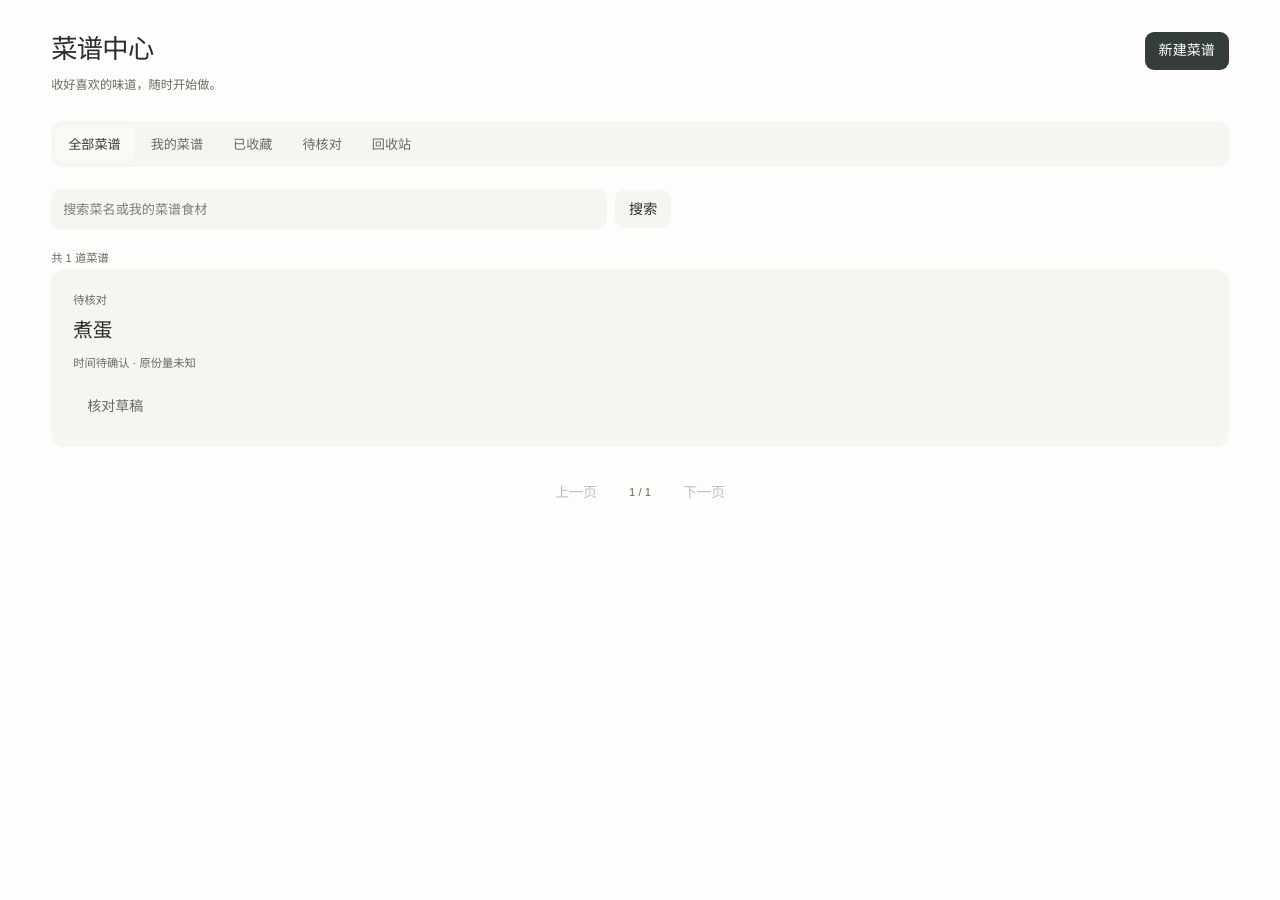
center request lifecycles › updates the inspector title after accepting an edited draft
Click the button "核对草稿".
click(115, 406)  # box 73,387 -> 157,425
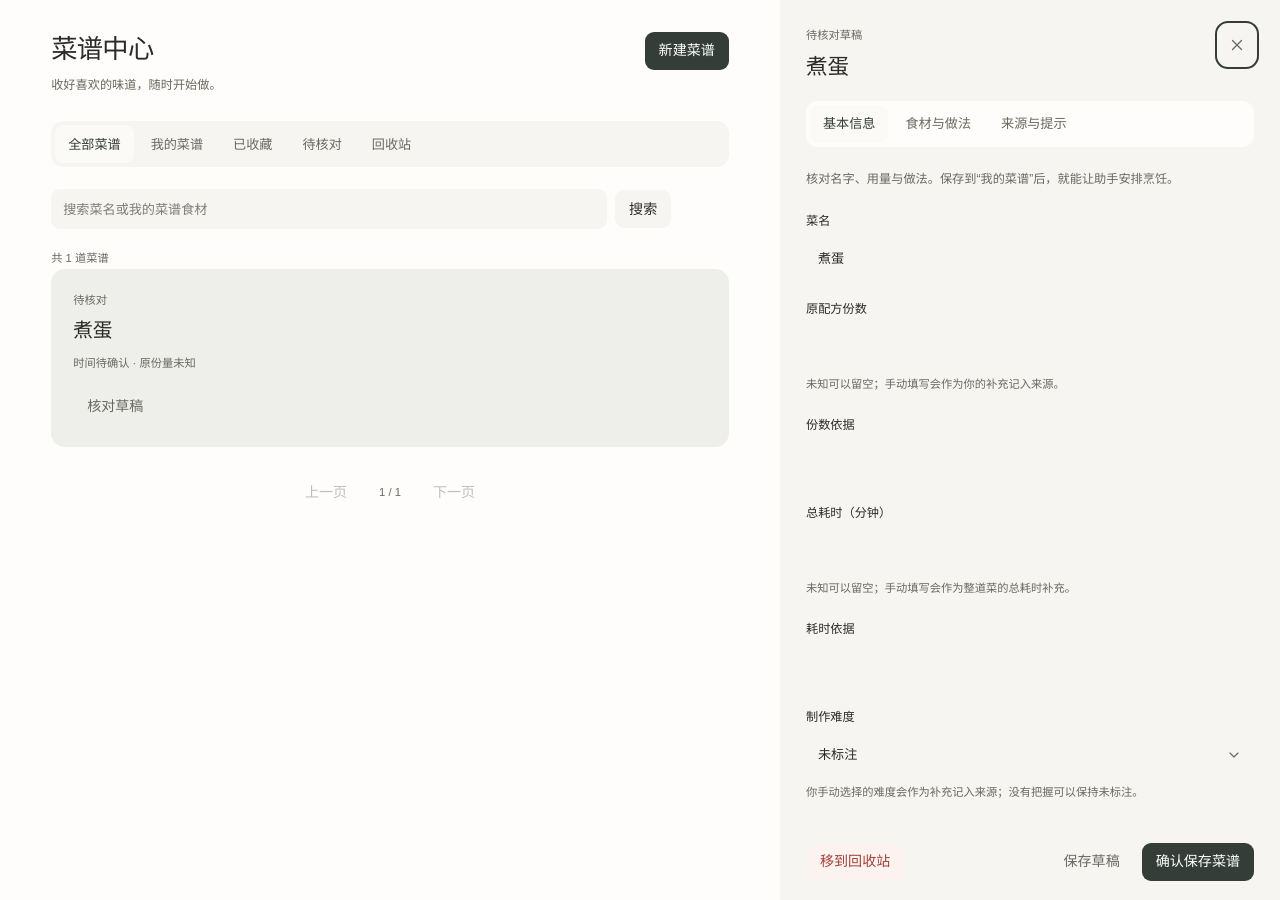
Replace the text in the field labelled "菜名" with "新菜名" at (1030, 259), box 806,239 -> 1254,279
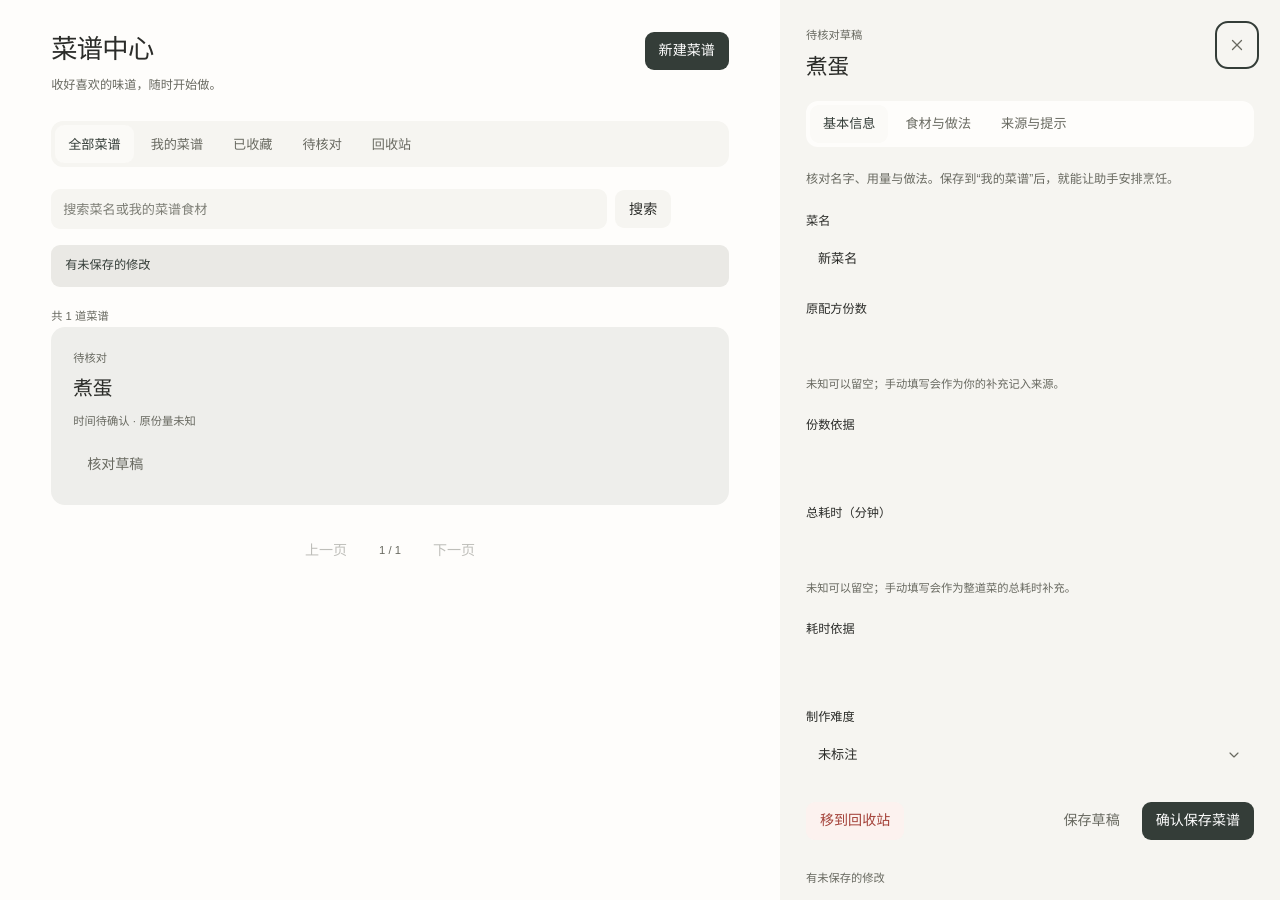
Click the button "保存草稿".
click(1092, 821)  # box 1050,802 -> 1134,840
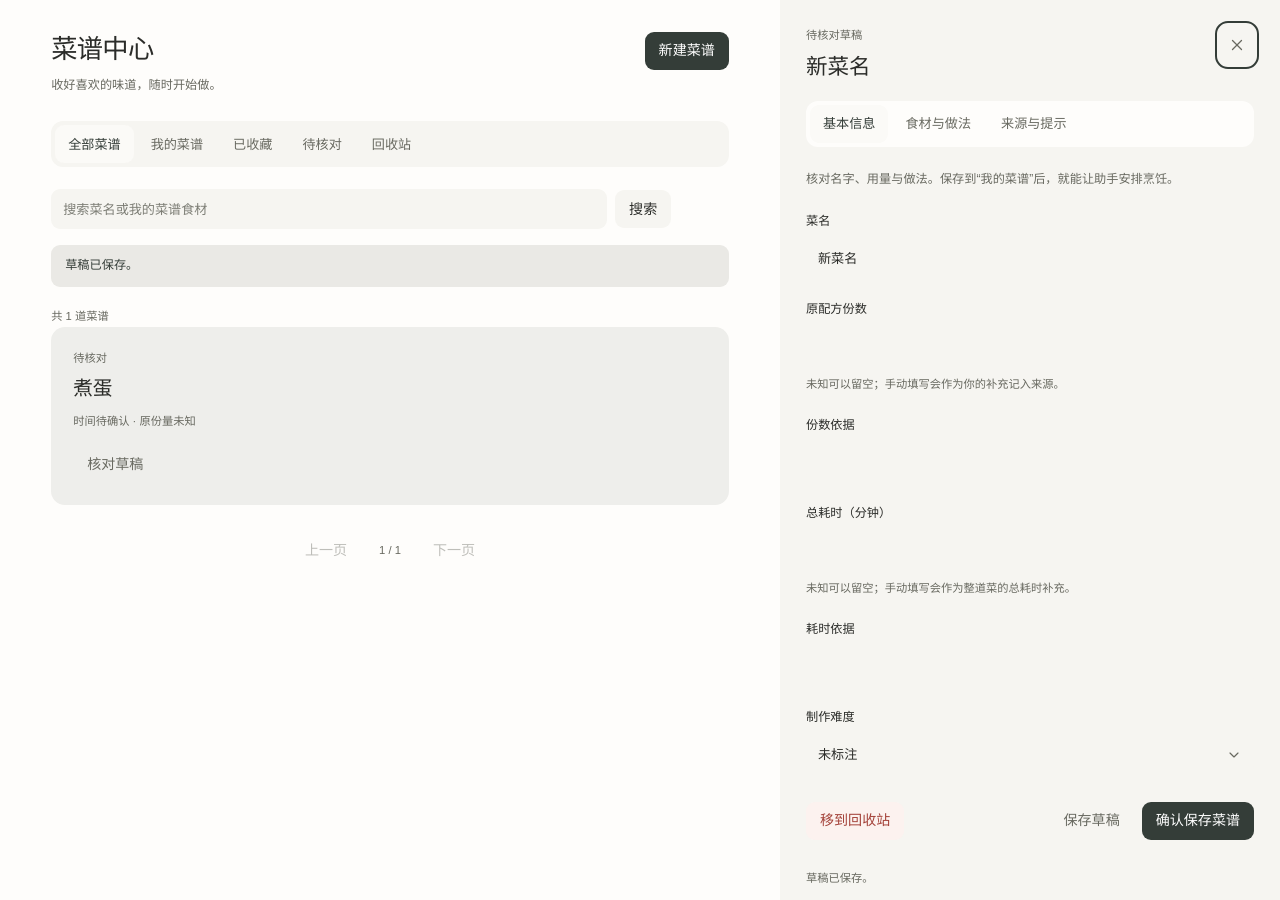
Check: the heading "新菜名" is shown, box 806,51 -> 871,83
